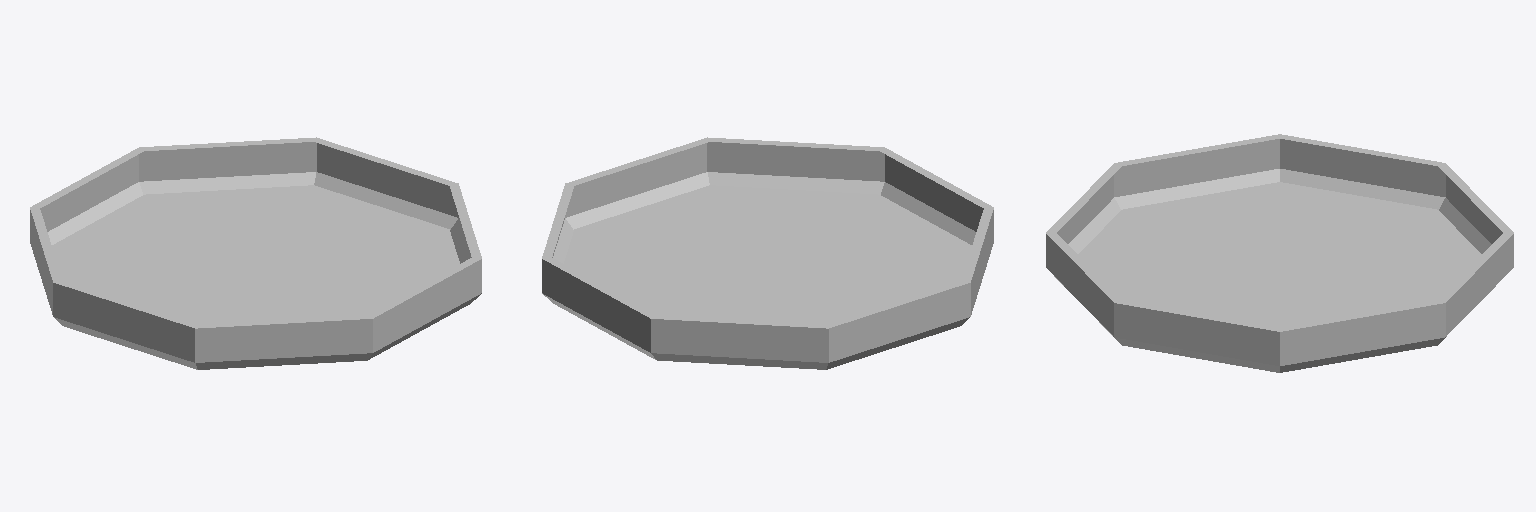
Rendered from Arena4.obj.
3 renders of one model, left to right at view 1: azimuth 30°, elevation 25°; view 2: azimuth 150°, elevation 25°; view 3: azimuth 270°, elevation 25°, orthographic.
Visible parts, largest first — view 1: Cylinder; view 2: Cylinder; view 3: Cylinder.
Part boxes in pixels (x1,y1,x2,y2): Cylinder: (30,137,481,369); Cylinder: (542,137,993,369); Cylinder: (1046,134,1513,372).
Size of the model in its own units: 14.13 by 1.53 by 14.13.